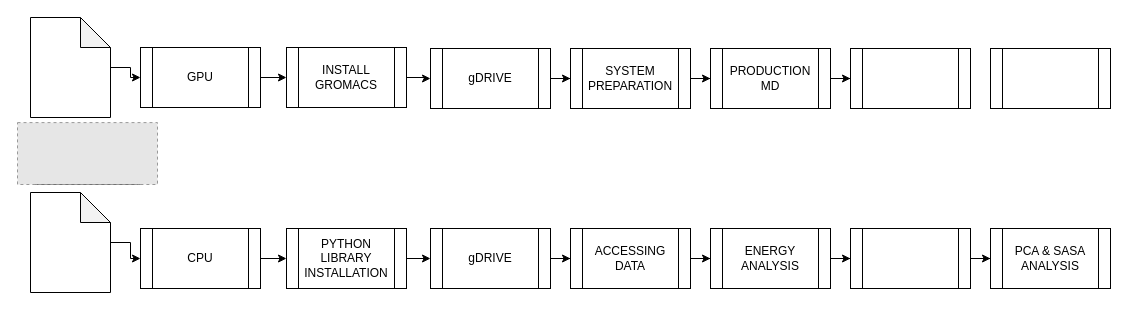
Some shapes in this 1128 by 310 pixel diagram are drawn without their labels. Grey dashed boxes stand in for pictures. Here are the shapes that lost their labels. From the top down, the box of each, then its label:
(30, 16, 110, 118): SIMULATION
(850, 48, 970, 108): APPENDING MD
(990, 48, 1110, 108): CONCATENATE TRAJECTORIES
(30, 192, 110, 292): ANALYSIS
(850, 228, 970, 288): RMSD RMSF RG ANALYSIS
